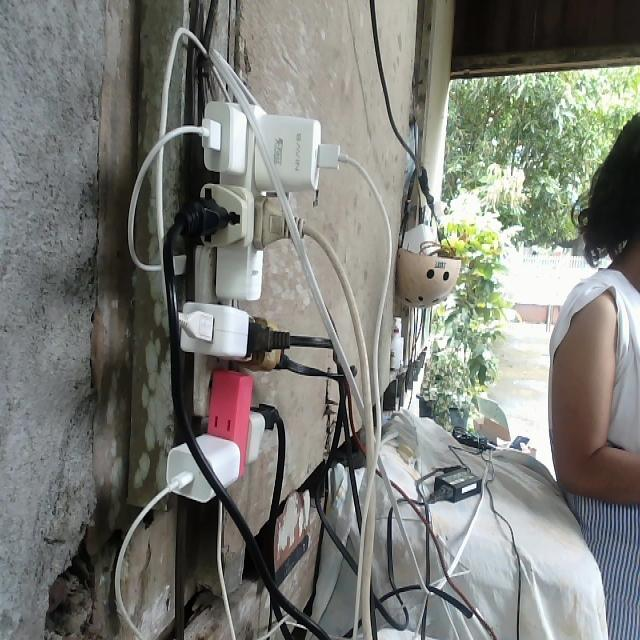-: (158, 94, 326, 498)
